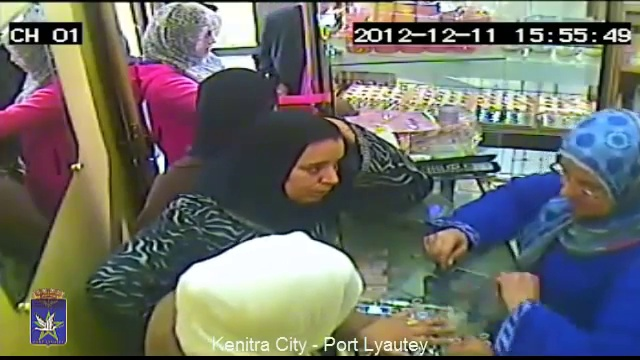face: (553, 157, 617, 217), (286, 144, 344, 204)
